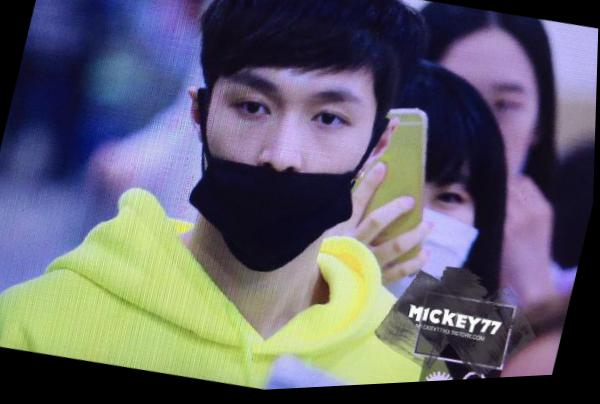OK: (325, 146, 497, 325)
WRONG: (174, 46, 387, 288)
